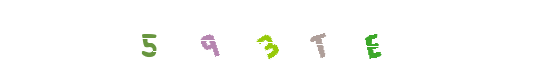3: (229, 0, 309, 80)
5: (131, 0, 211, 80)
9: (216, 0, 296, 80)
E: (332, 0, 412, 80)
T: (237, 0, 317, 80)
